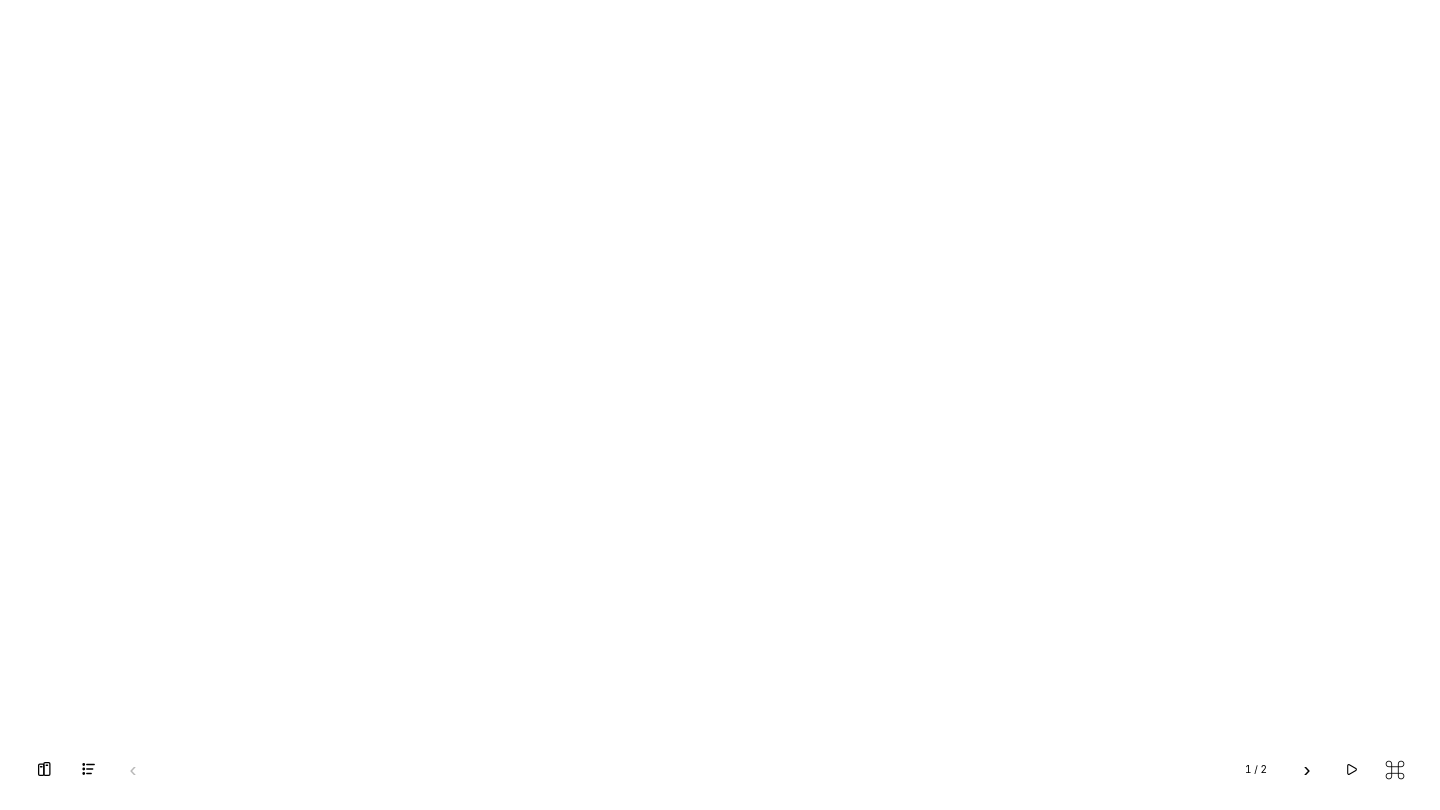
Test: 点弹层以外的空白处即返回
Click the button named "目录" at [89, 769], box 72,752 -> 106,786
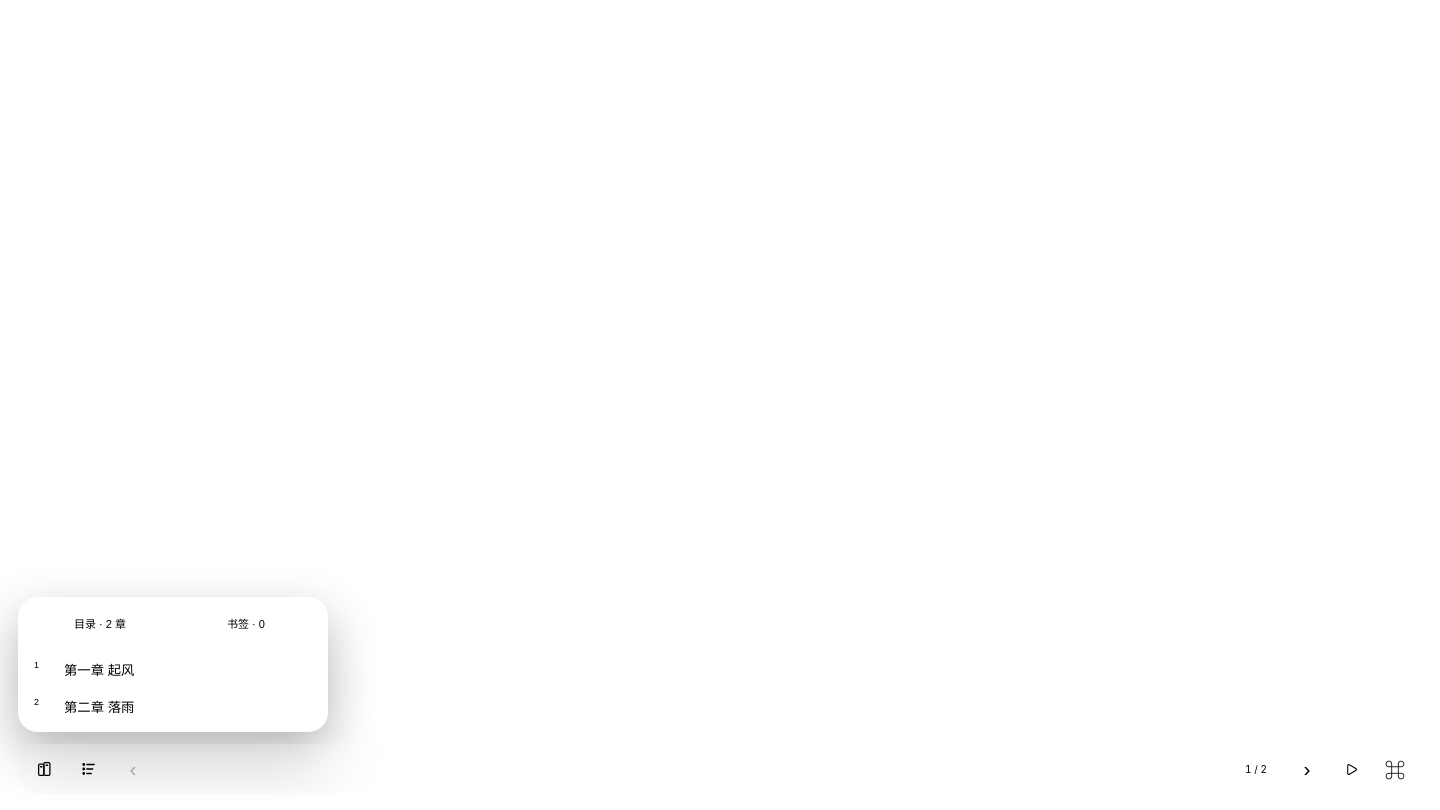
expect the button "目录 · 2 章" is shown: met, box 30,608 -> 170,638
Press the mouse on the element showing "目录 · 2 章 书签 · 0 1 第一章 起风 2 第二章 落雨 ‹ 1 / 2 › ⌘" at [720, 405], box 0,0 -> 1439,809
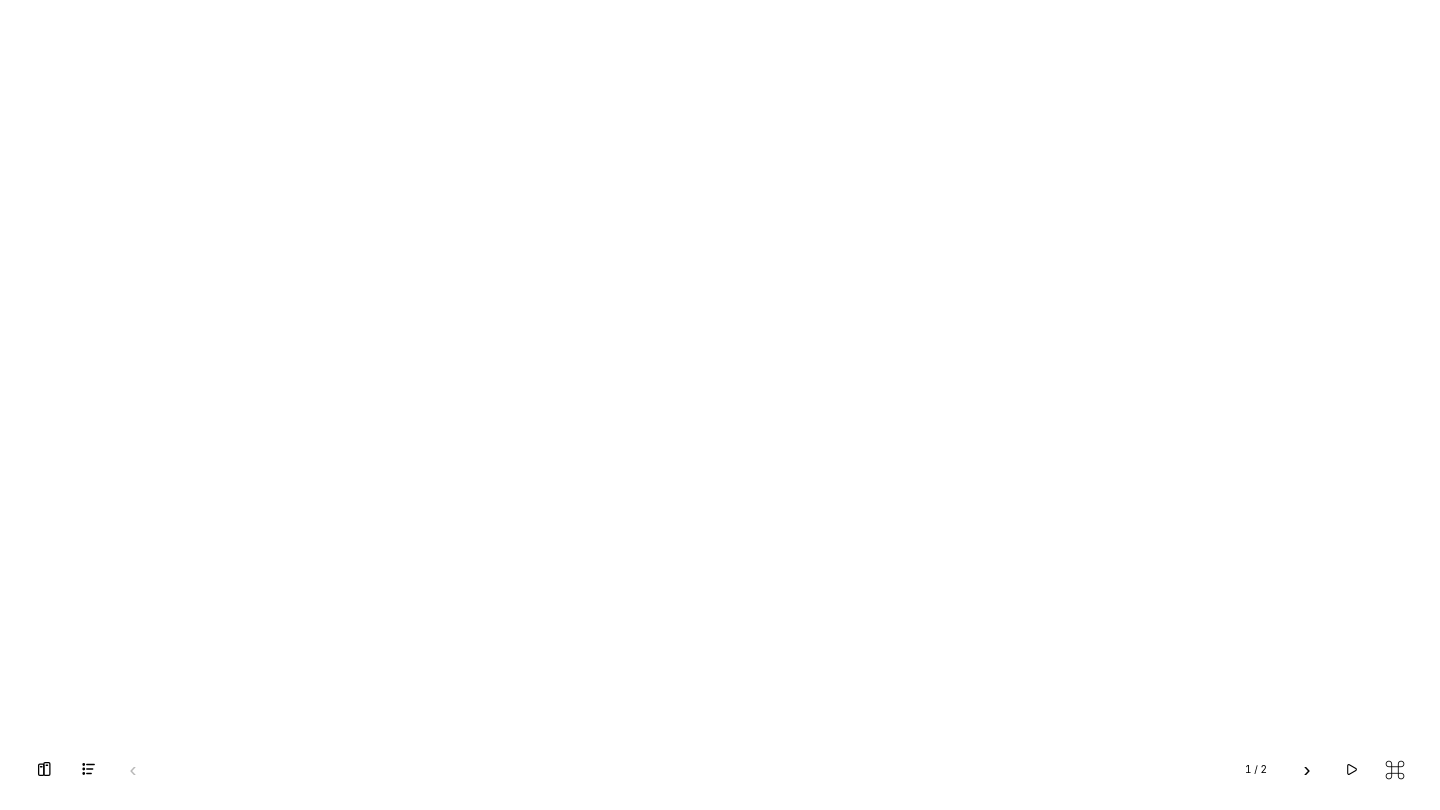
expect the button "目录 · 2 章" is gone: met
Click the button named "书架" at [45, 769], box 28,752 -> 62,786
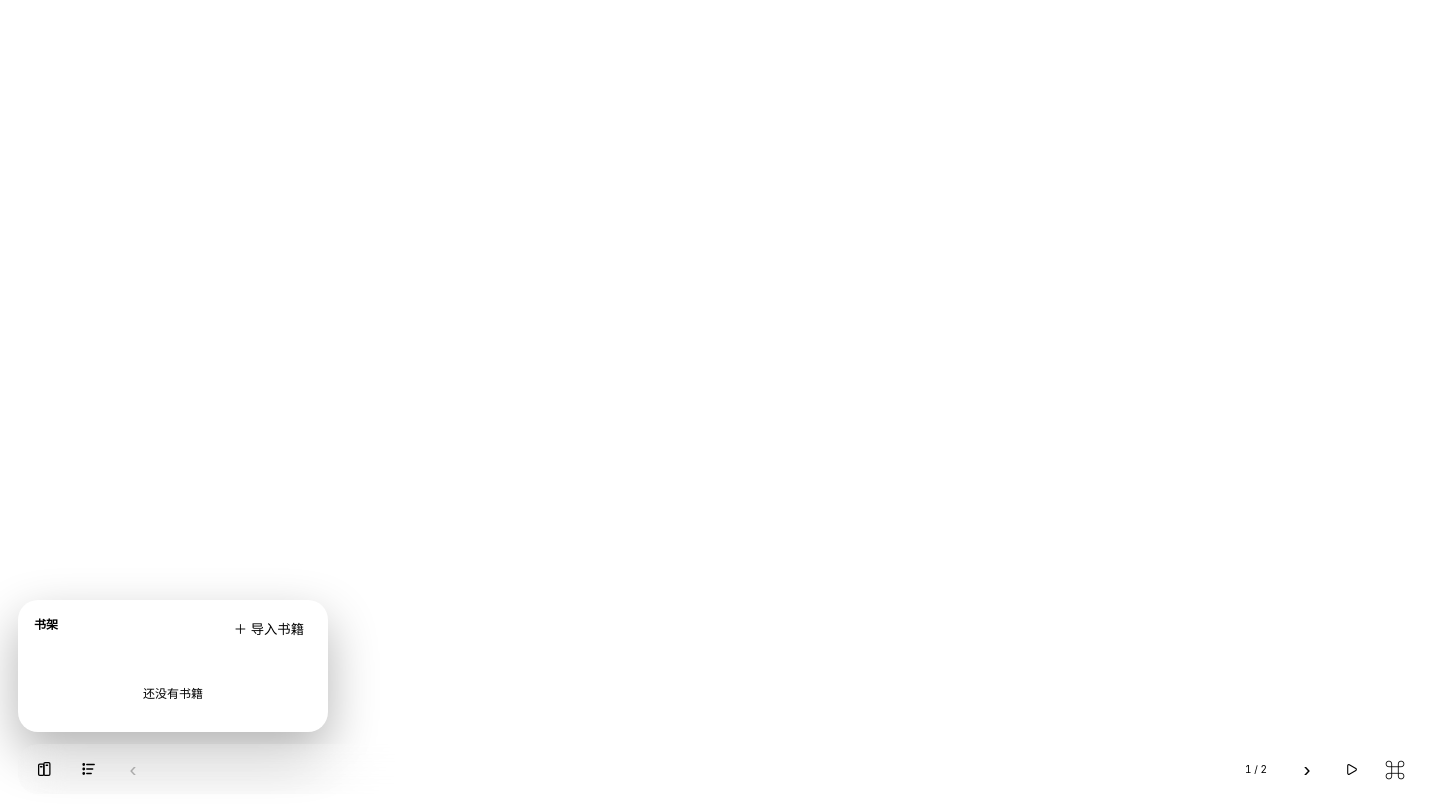
expect the button "＋ 导入书籍" is shown: met, box 226,615 -> 312,642
Press the mouse on the element showing "书架 ＋ 导入书籍 还没有书籍 ‹ 1 / 2 › ⌘" at [720, 405], box 0,0 -> 1439,809
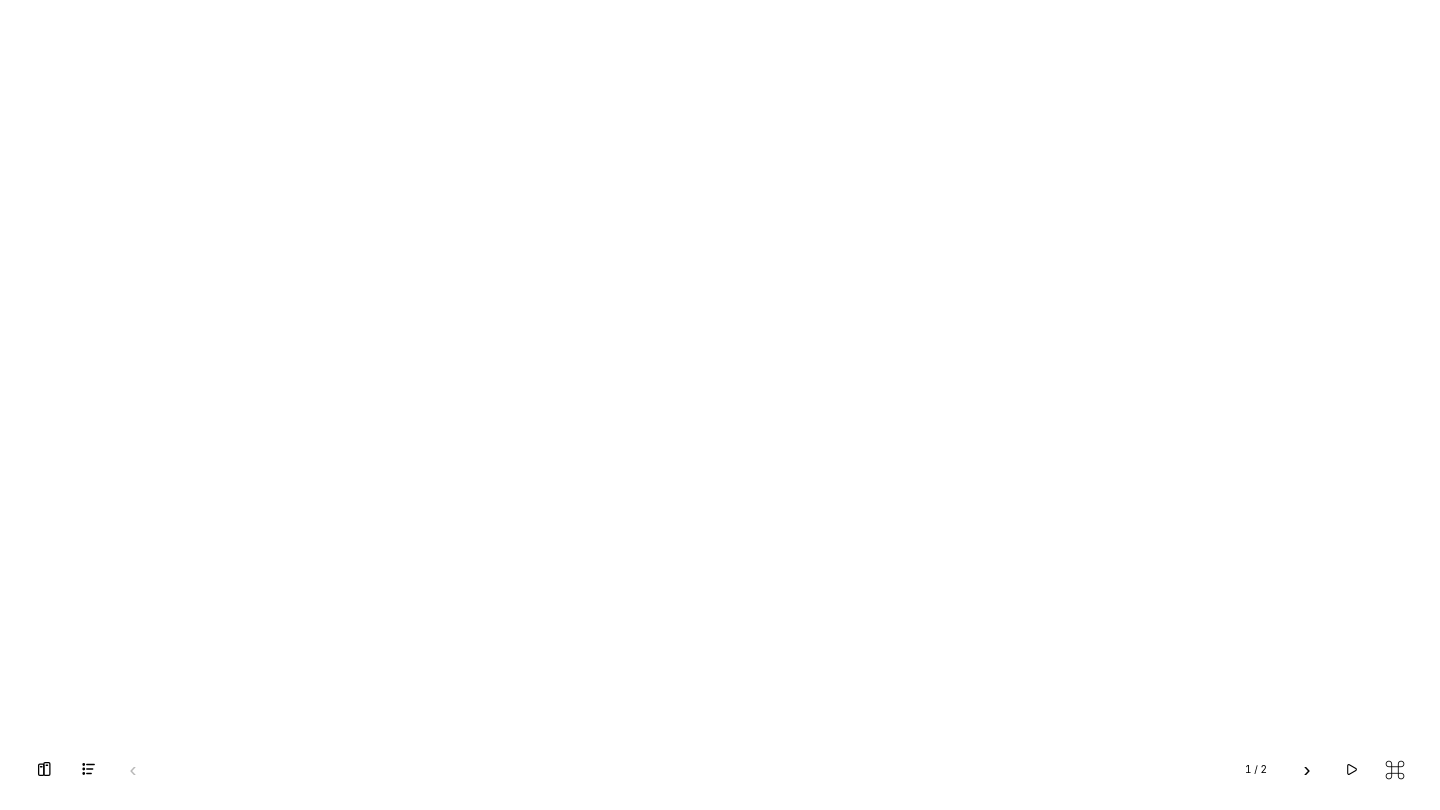
expect the button "＋ 导入书籍" is gone: met
